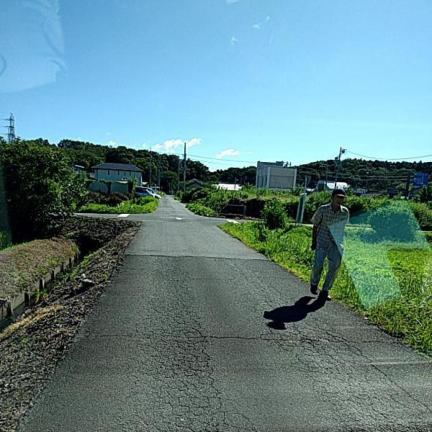Road: (19, 197, 431, 431)
